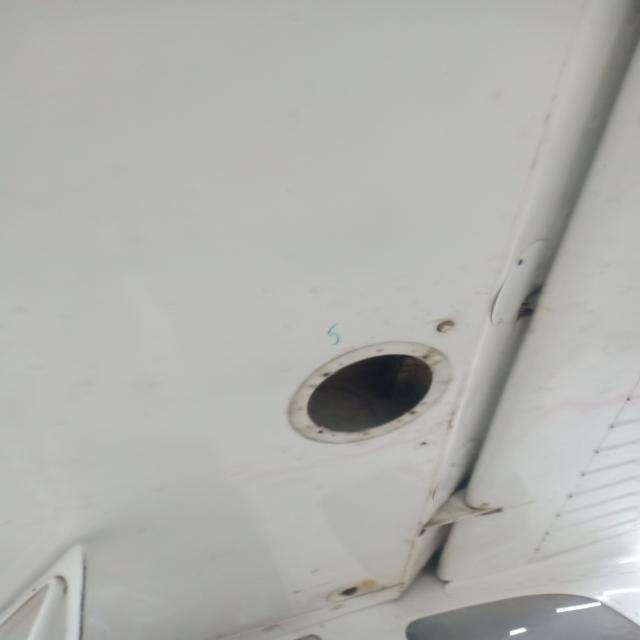Crack: (321, 312, 354, 348)
